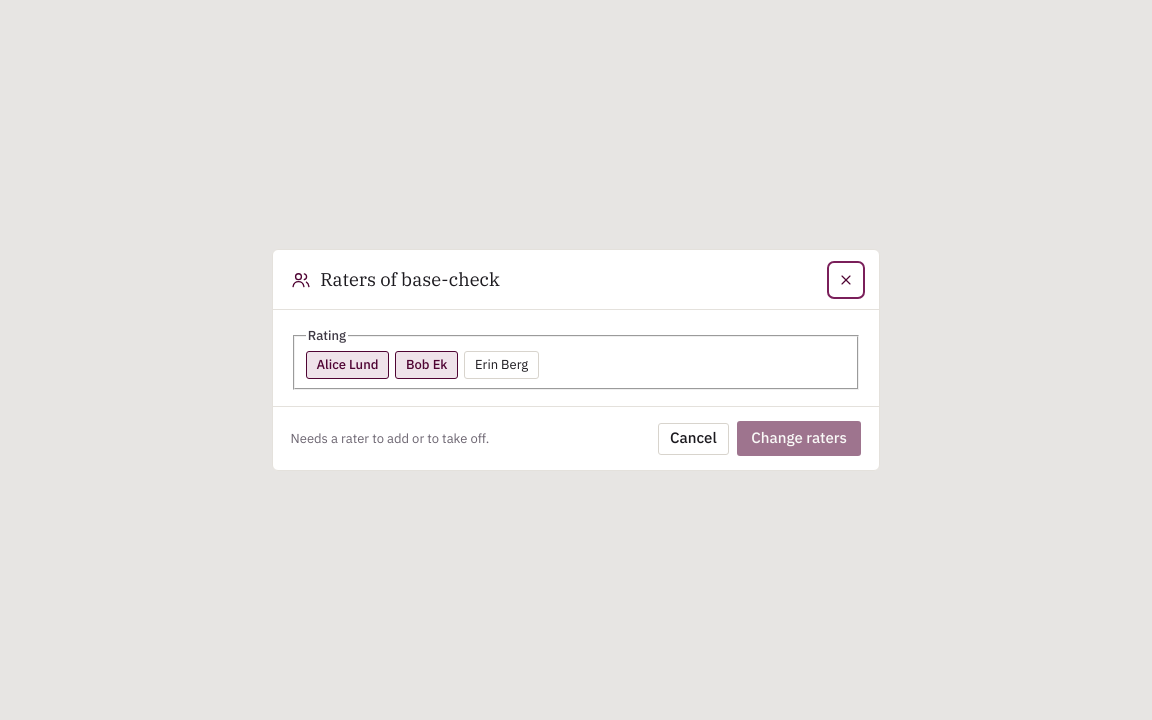
Test: the raters dialog › will not leave nobody to rate it: anyone with work on Campaigns would, and the engine refuses it
Click the button with class "opt" showing "Alice Lund" at (347, 365), box [306, 351, 389, 379]
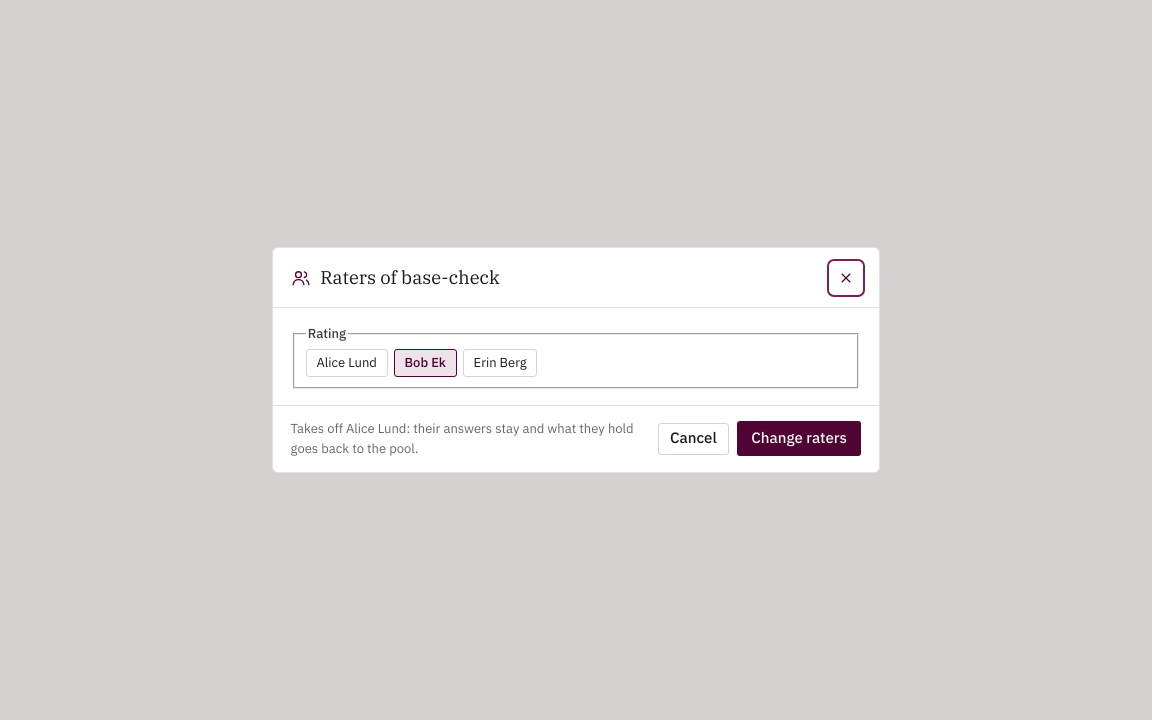
Click the button with class "opt" showing "Bob Ek" at (425, 363), box [394, 349, 457, 377]
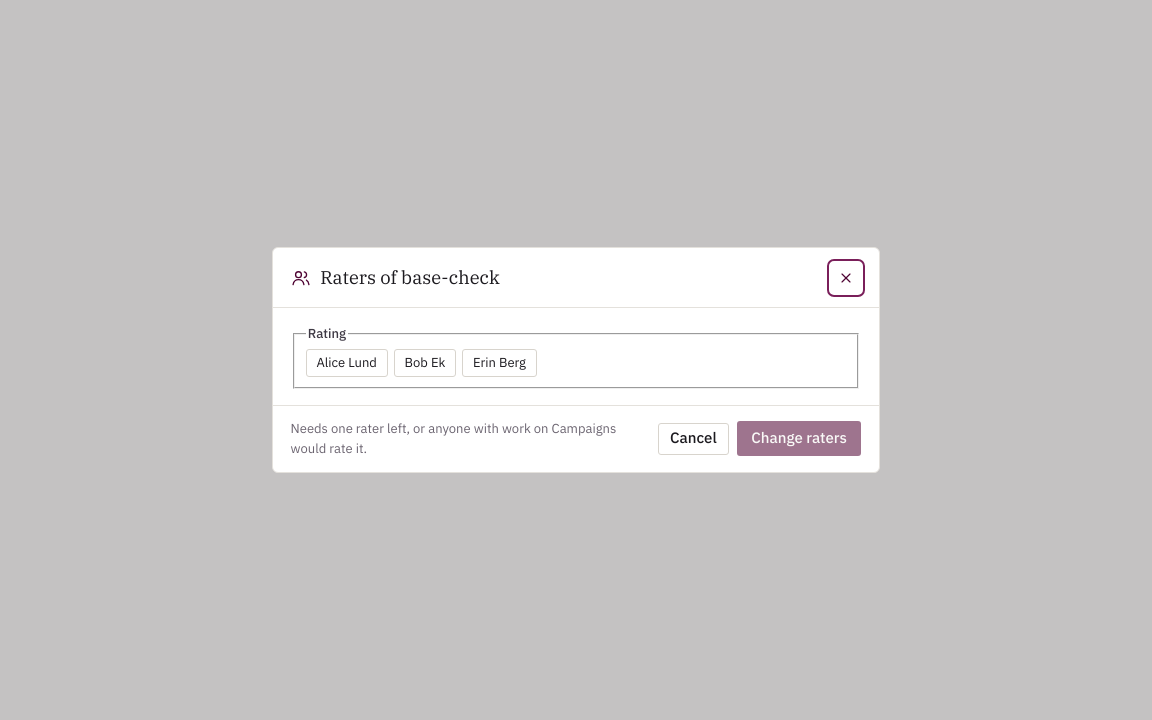
Expected: the button "Change raters" is disabled, [737, 421, 861, 456]
Expected: the text with class "meta" reads "Needs one rater left, or anyone with work on Campaigns would rate it.", [291, 420, 616, 457]
Click the button with class "opt" showing "Erin Berg" at (499, 363), box [462, 349, 536, 377]
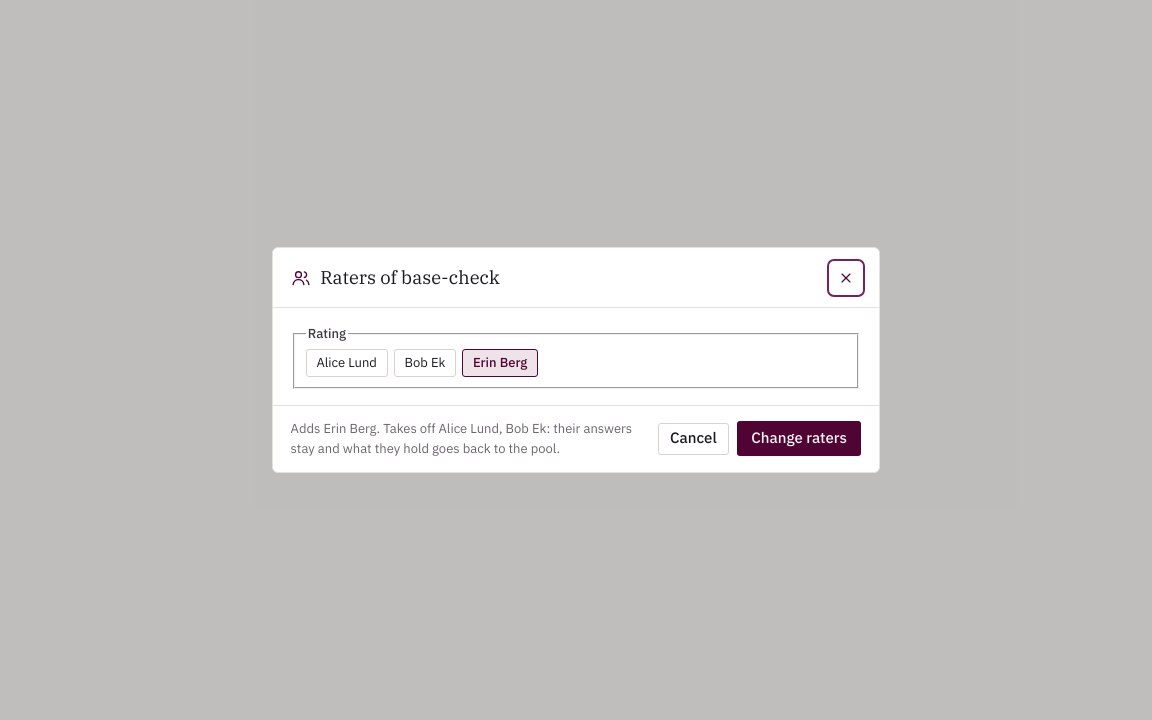
Expected: the button "Change raters" is enabled, [737, 421, 861, 456]
